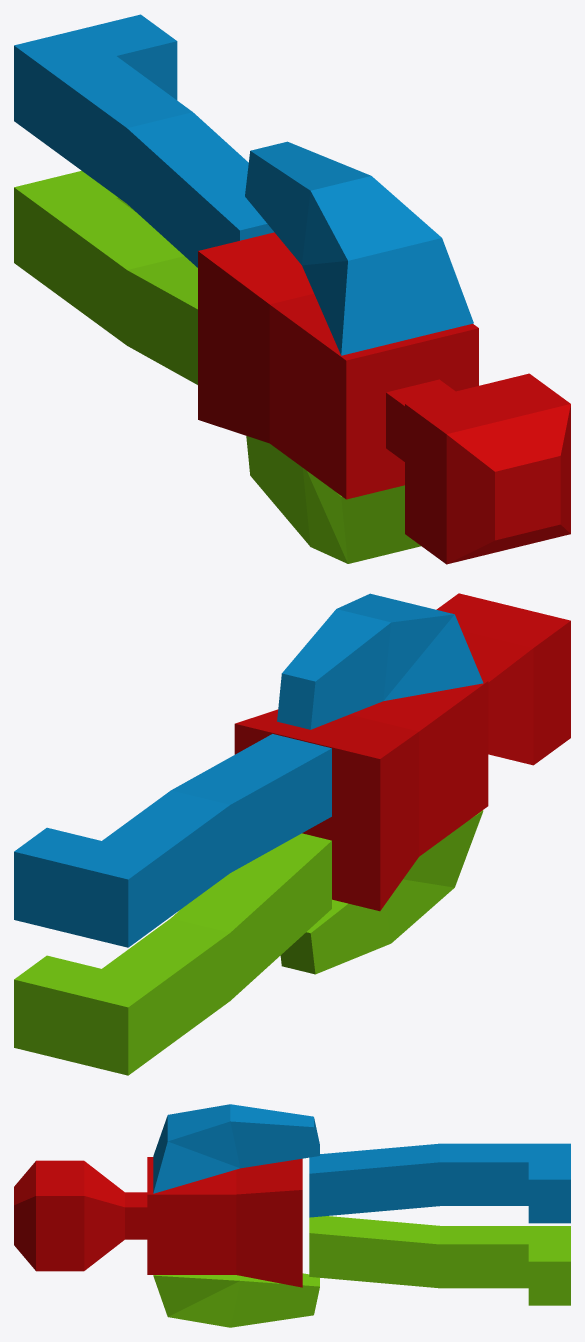
File: perso.obj
3 views of the same model, one above another, from view 1: azimuth 30°, elevation 25°; view 2: azimuth 150°, elevation 25°; view 3: azimuth 270°, elevation 25° (orthographic). The views are drawn at different scales.
Visible parts, largest first — view 1: tronc, leg.L, arm.L, leg.R, arm.R; view 2: tronc, leg.R, leg.L, arm.L, arm.R; view 3: tronc, leg.L, leg.R, arm.L, arm.R.
Part boxes in pixels (x1=…): tronc: x1=198, y1=232, x2=570, y2=564; leg.L: x1=14, y1=14, x2=273, y2=267; arm.L: x1=245, y1=141, x2=473, y2=355; leg.R: x1=14, y1=170, x2=197, y2=384; arm.R: x1=246, y1=436, x2=420, y2=563; tronc: x1=234, y1=593, x2=570, y2=911; leg.R: x1=14, y1=833, x2=331, y2=1075; leg.L: x1=14, y1=734, x2=331, y2=947; arm.L: x1=277, y1=593, x2=483, y2=729; arm.R: x1=280, y1=810, x2=483, y2=974; tronc: x1=14, y1=1157, x2=302, y2=1287; leg.L: x1=309, y1=1143, x2=570, y2=1223; leg.R: x1=309, y1=1216, x2=570, y2=1305; arm.L: x1=153, y1=1104, x2=319, y2=1193; arm.R: x1=153, y1=1273, x2=319, y2=1327.
Bounding box in the file's own units: 2.63 × 5.13 × 12.54.
